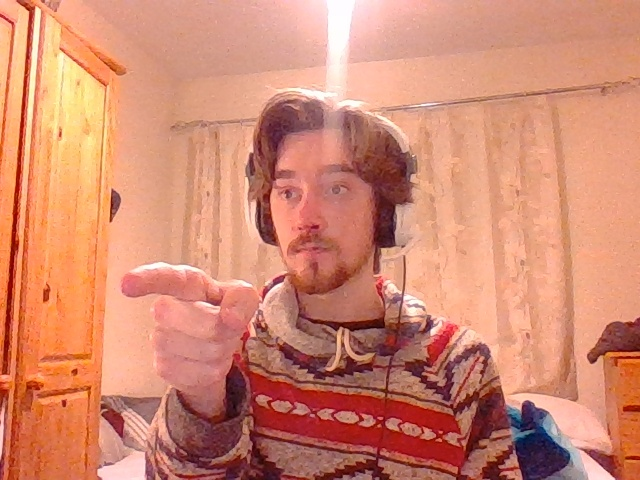you: (121, 262, 259, 398)
